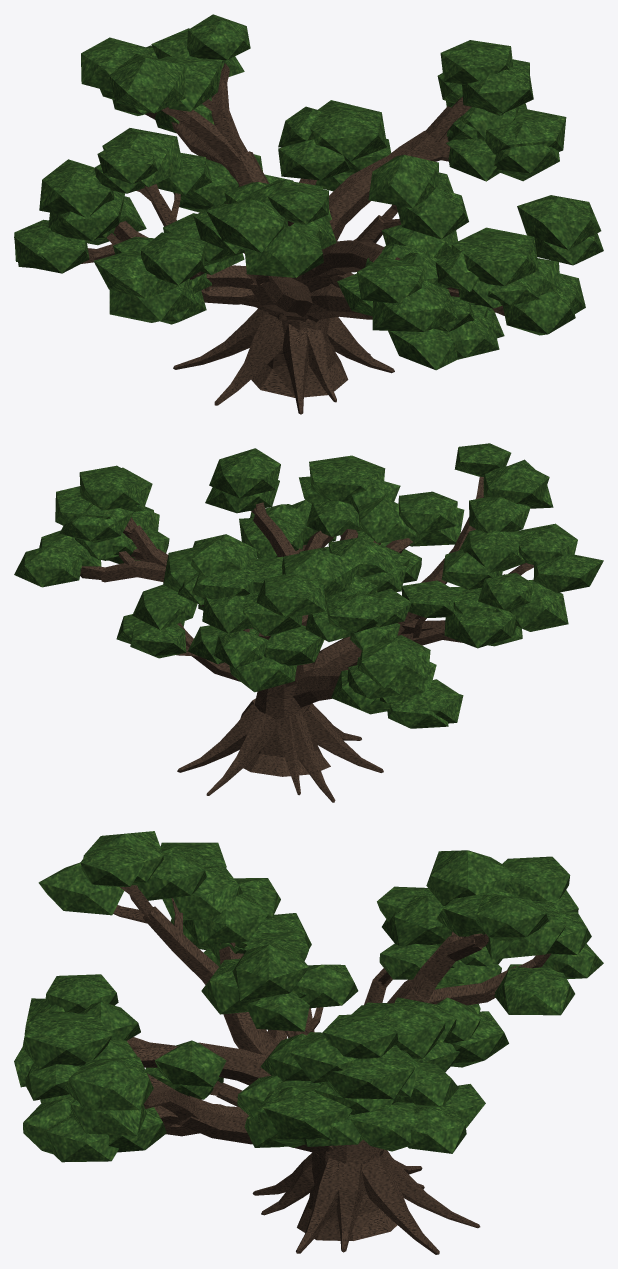
Rendered from arbol_panteon.obj.
3 renders of one model, top to bottom at view 1: azimuth 30°, elevation 25°; view 2: azimuth 150°, elevation 25°; view 3: azimuth 270°, elevation 25°, orthographic. The views are drawn at different scales.
Parts seen in each view (by area): view 1: Arbol_Follaje, Arbol_Tronco; view 2: Arbol_Follaje, Arbol_Tronco; view 3: Arbol_Follaje, Arbol_Tronco.
Boxes of the visible parts, x1,y1,x2,y2 form: Arbol_Follaje: (14,14,603,370); Arbol_Tronco: (81,63,504,414); Arbol_Follaje: (14,443,603,728); Arbol_Tronco: (80,476,533,802); Arbol_Follaje: (14,831,603,1162); Arbol_Tronco: (113,885,551,1254).
Size of the model in its own units: 16.52 by 9.37 by 15.41.
2 materials, 2 textured.
